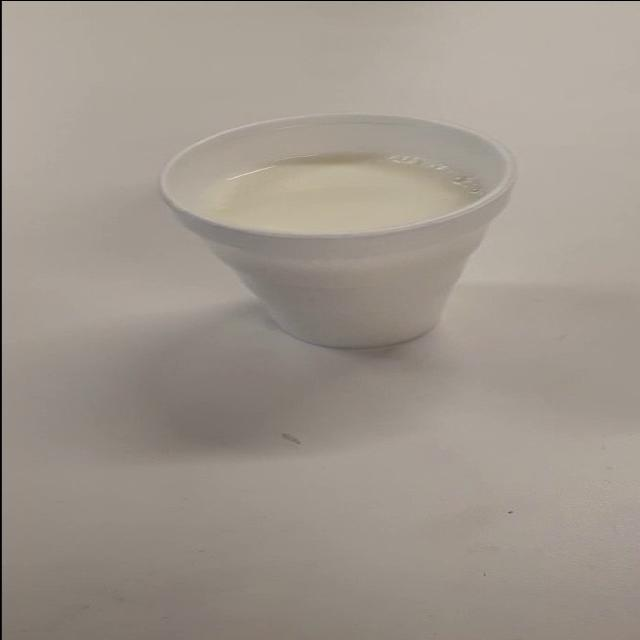Milk: (146, 96, 591, 358)
